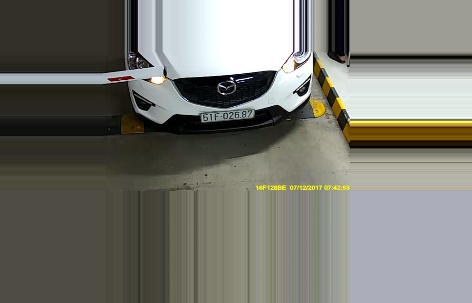plate: (197, 107, 256, 122)
